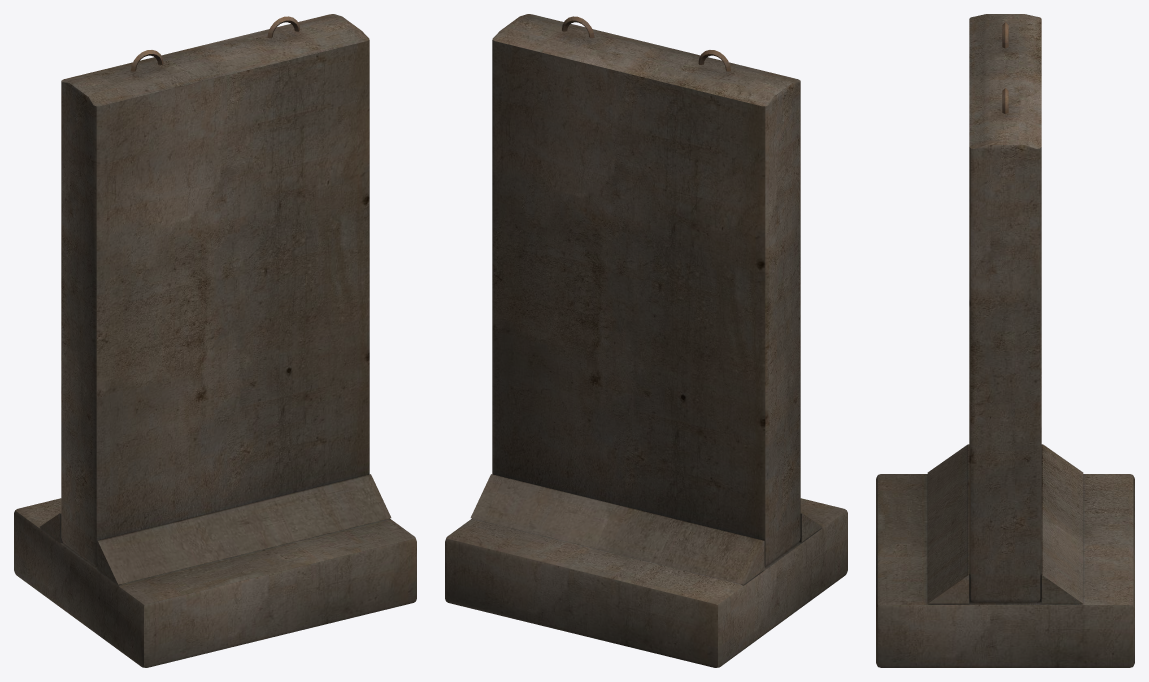
Rendered from t_wall.glb.
3 views of the same model, side by side, from view 1: azimuth 30°, elevation 25°; view 2: azimuth 150°, elevation 25°; view 3: azimuth 270°, elevation 25° (orthographic).
Visible parts, largest first — view 1: t_wall; view 2: t_wall; view 3: t_wall.
Boxes of the visible parts, x1,y1,x2,y2 form: t_wall: (14,14,416,667); t_wall: (445,14,847,667); t_wall: (876,14,1134,667).
Bounding box in the file's own units: 1.21 × 2.33 × 1.
1 material, 1 textured.
